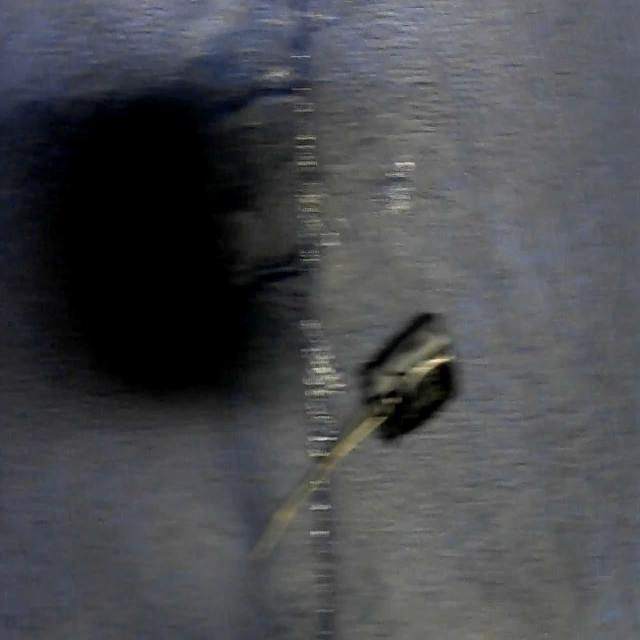capacitor: (262, 316, 452, 552)
